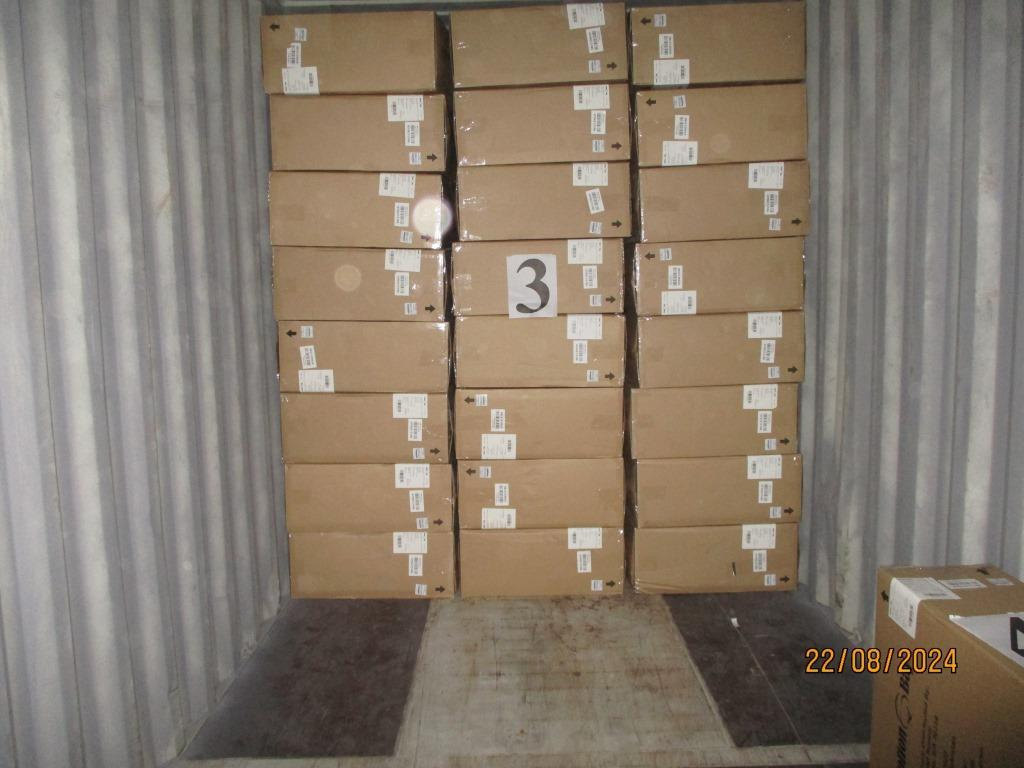carton: (261, 9, 445, 95), (450, 1, 628, 88), (630, 0, 804, 86), (453, 84, 631, 165), (456, 161, 633, 242), (269, 93, 448, 172), (270, 171, 451, 249), (637, 160, 809, 242), (634, 84, 805, 166), (451, 238, 624, 316), (271, 245, 448, 321), (633, 237, 803, 316), (633, 310, 804, 388), (276, 319, 450, 393), (454, 313, 625, 388), (630, 383, 798, 458), (455, 386, 624, 460), (280, 391, 451, 463), (633, 453, 801, 526), (284, 462, 455, 533), (630, 521, 797, 593), (457, 457, 624, 529), (459, 526, 626, 597), (289, 530, 457, 599)
